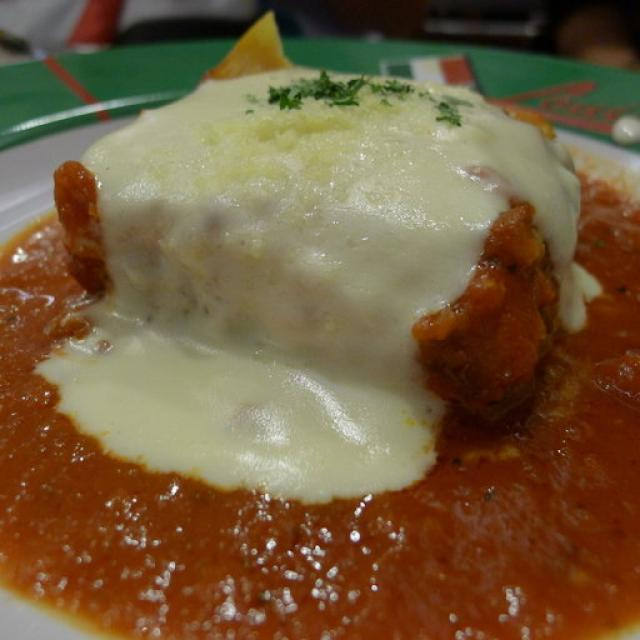Lasagna: (31, 46, 640, 490)
